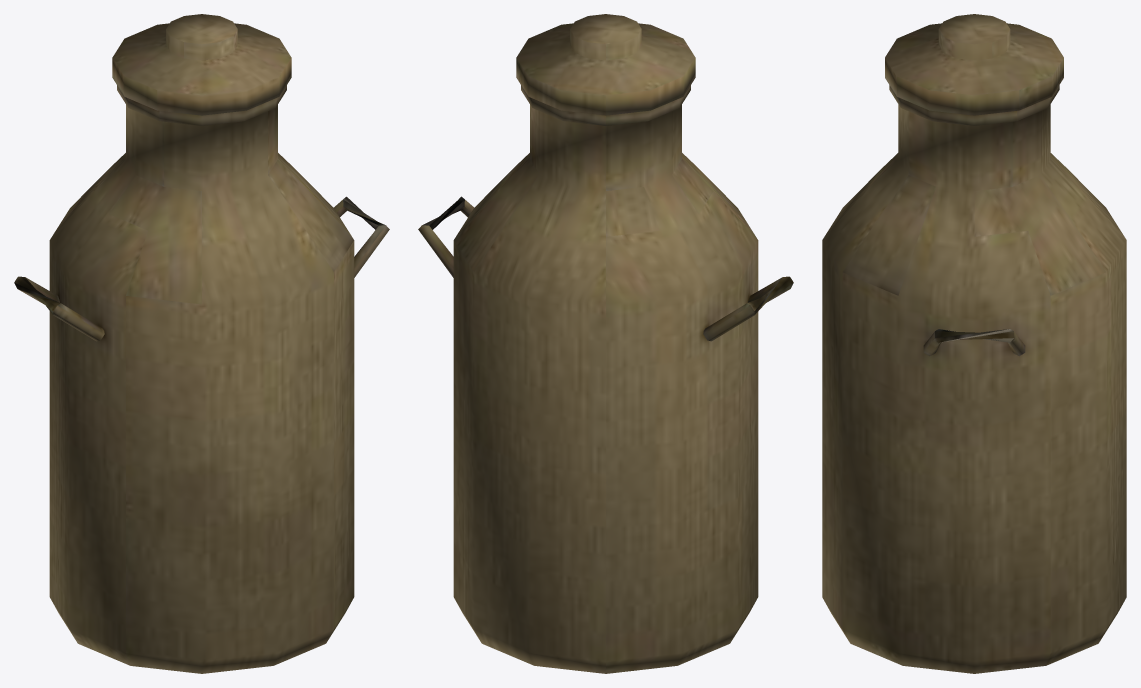
The model's file is bidon_lod1_web.glb.
The picture shows the model from 3 angles, left to right: view 1: azimuth 30°, elevation 25°; view 2: azimuth 150°, elevation 25°; view 3: azimuth 270°, elevation 25°; orthographic projection.
Parts seen in each view (by area): view 1: Bidon_Body; view 2: Bidon_Body; view 3: Bidon_Body.
Part boxes in pixels (<box>): Bidon_Body: <box>14,14,389,673</box>; Bidon_Body: <box>418,14,793,673</box>; Bidon_Body: <box>822,14,1126,673</box>.
Size of the model in its own units: 0.4338 by 0.72 by 0.34.
1 material, 1 textured.
